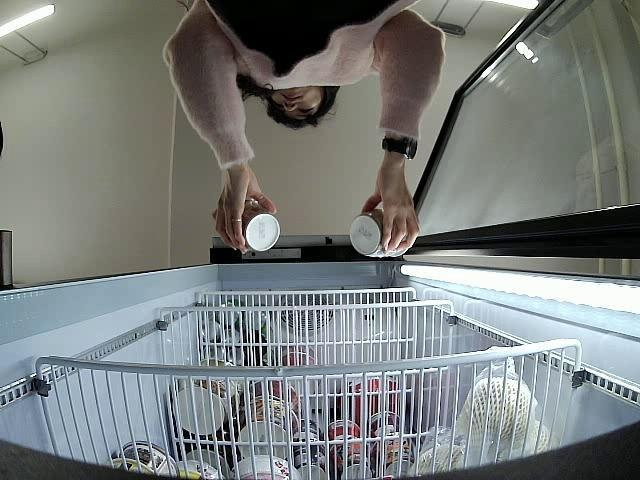04_chapagetti_S: (347, 210, 408, 258), (237, 198, 280, 252)
